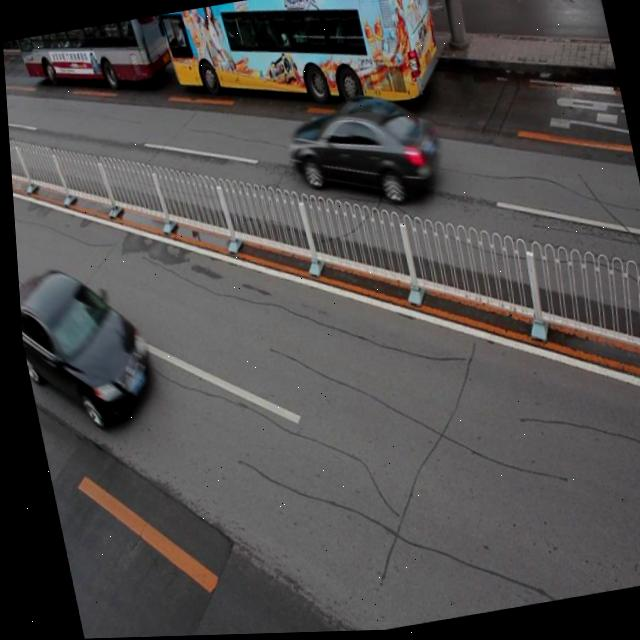car: (14, 255, 154, 433), (280, 87, 443, 219)
van: (157, 0, 447, 142), (14, 16, 175, 101)
